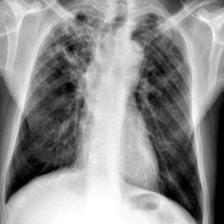tuberculosis: (0, 7, 206, 224)
